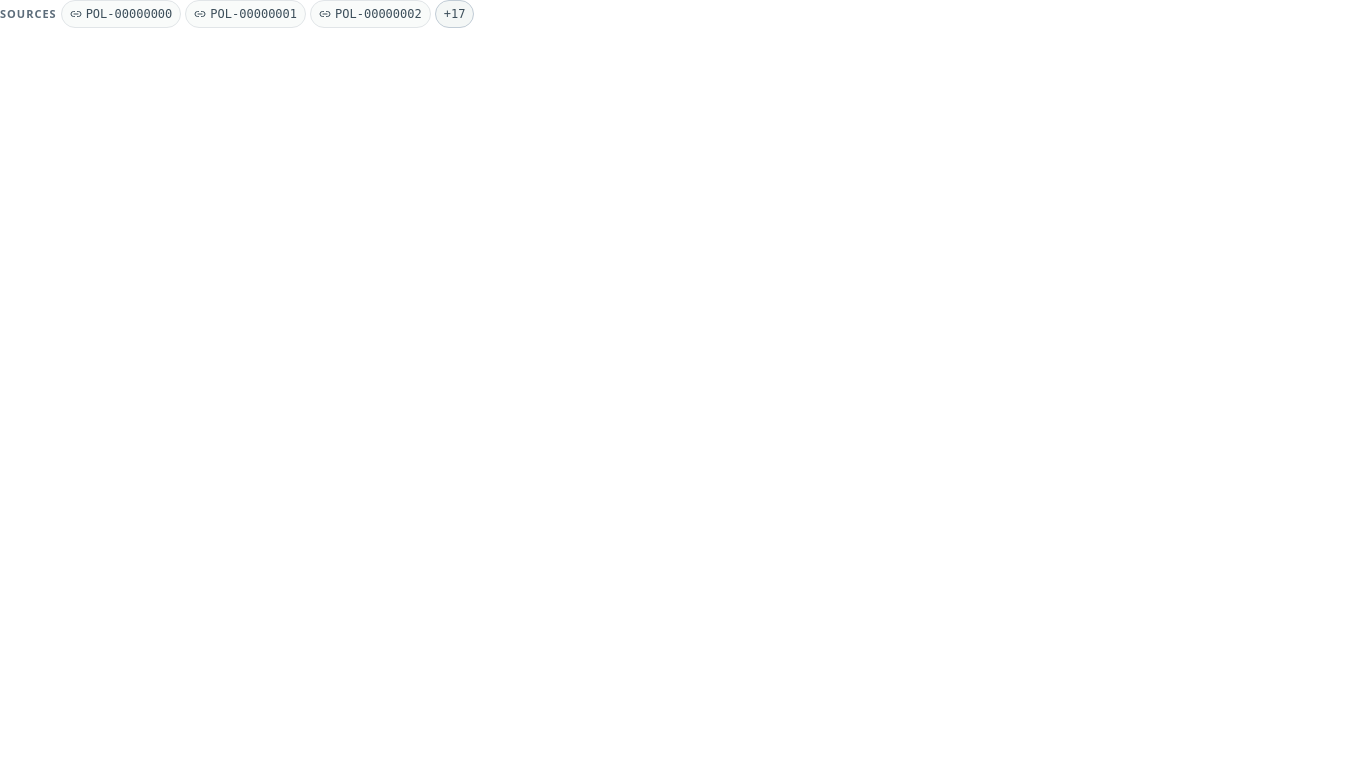
Test: CitationList › paginates rather than scrolling for two screens
Click the button with test id "citation-overflow" at (455, 14), box [435,0,474,28]
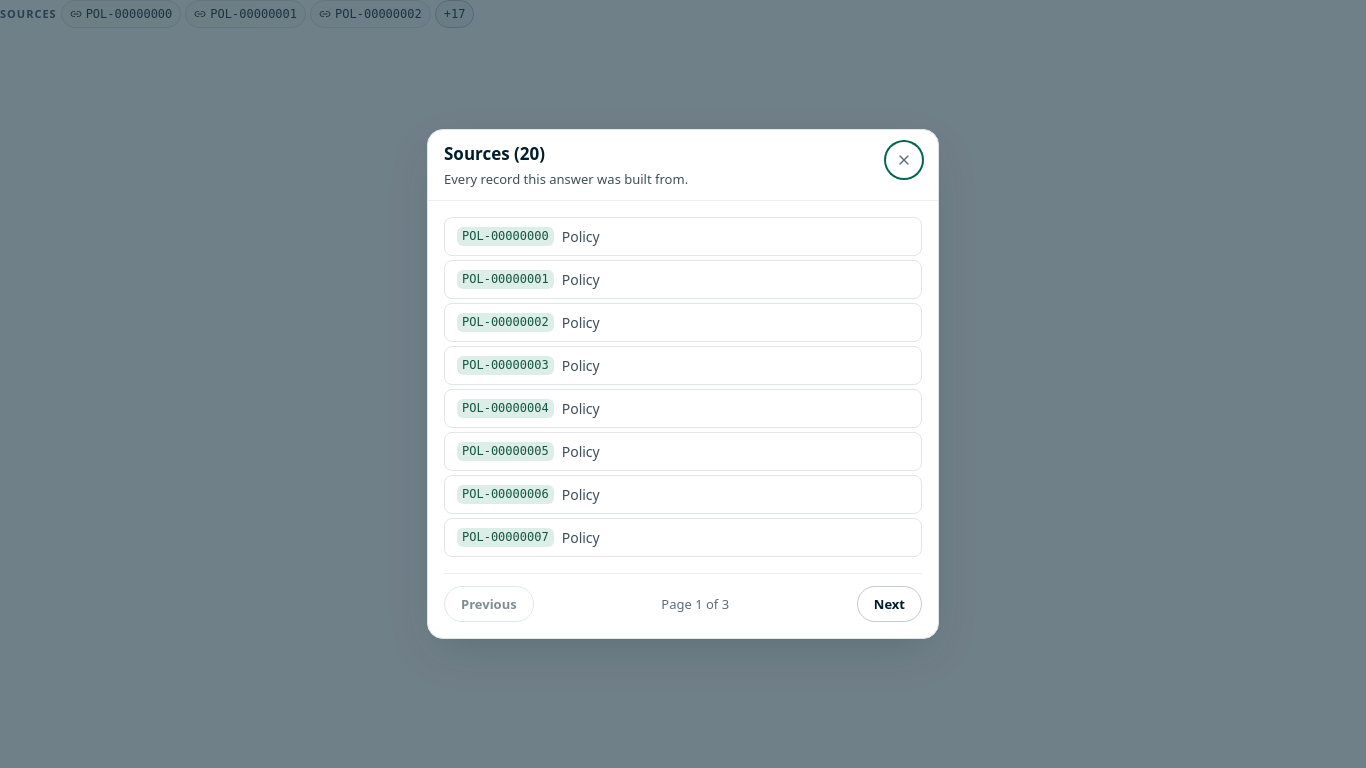
Expected: the number of list items with test id "citation-dialog-item" is 8
Expected: the text with test id "citation-page" reads "Page 1 of 3", [661,595,729,613]
Expected: the button with test id "citation-prev" is disabled, [444,586,534,622]
Click the button with test id "citation-next" at (889, 604), box [857,586,922,622]
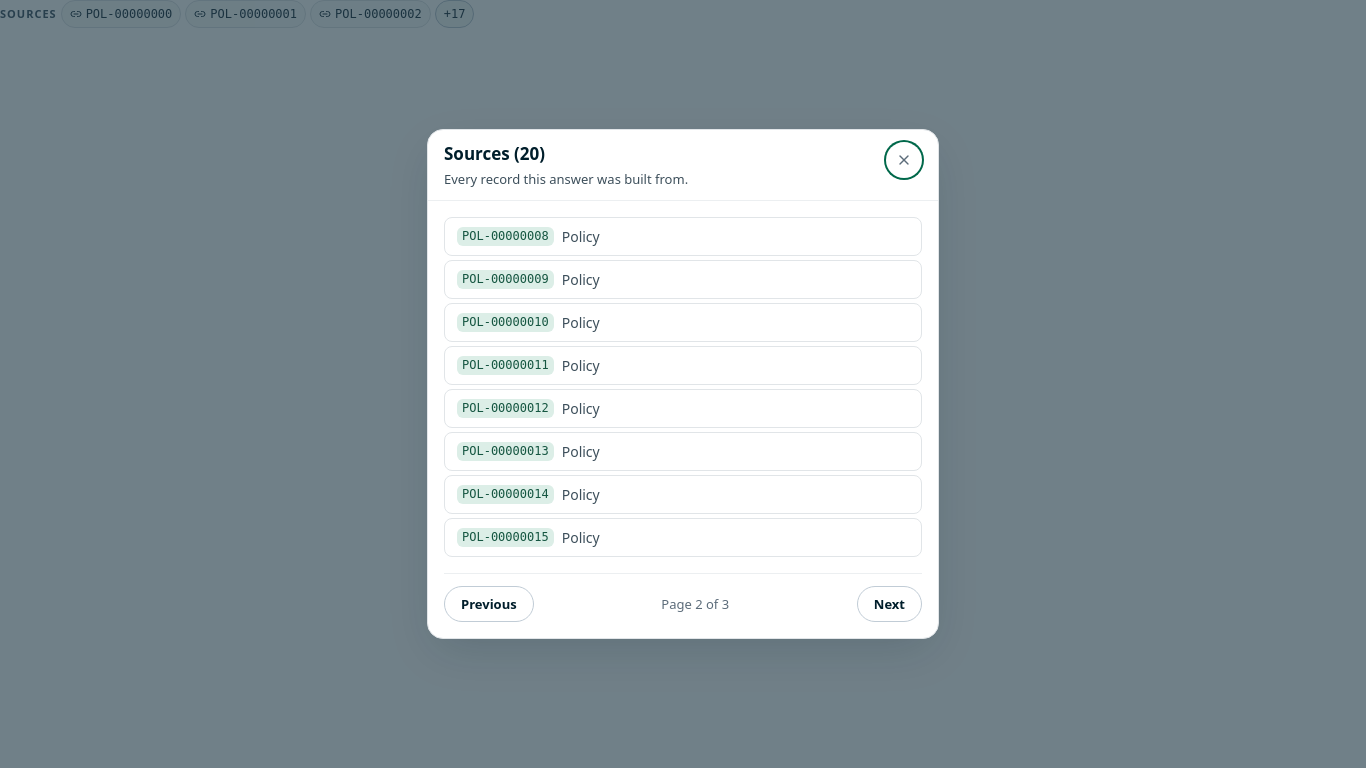
Expected: the text with test id "citation-page" reads "Page 2 of 3", [661,595,729,613]
Expected: the button with test id "citation-prev" is enabled, [444,586,534,622]
Click the button with test id "citation-next" at (889, 604), box [857,586,922,622]
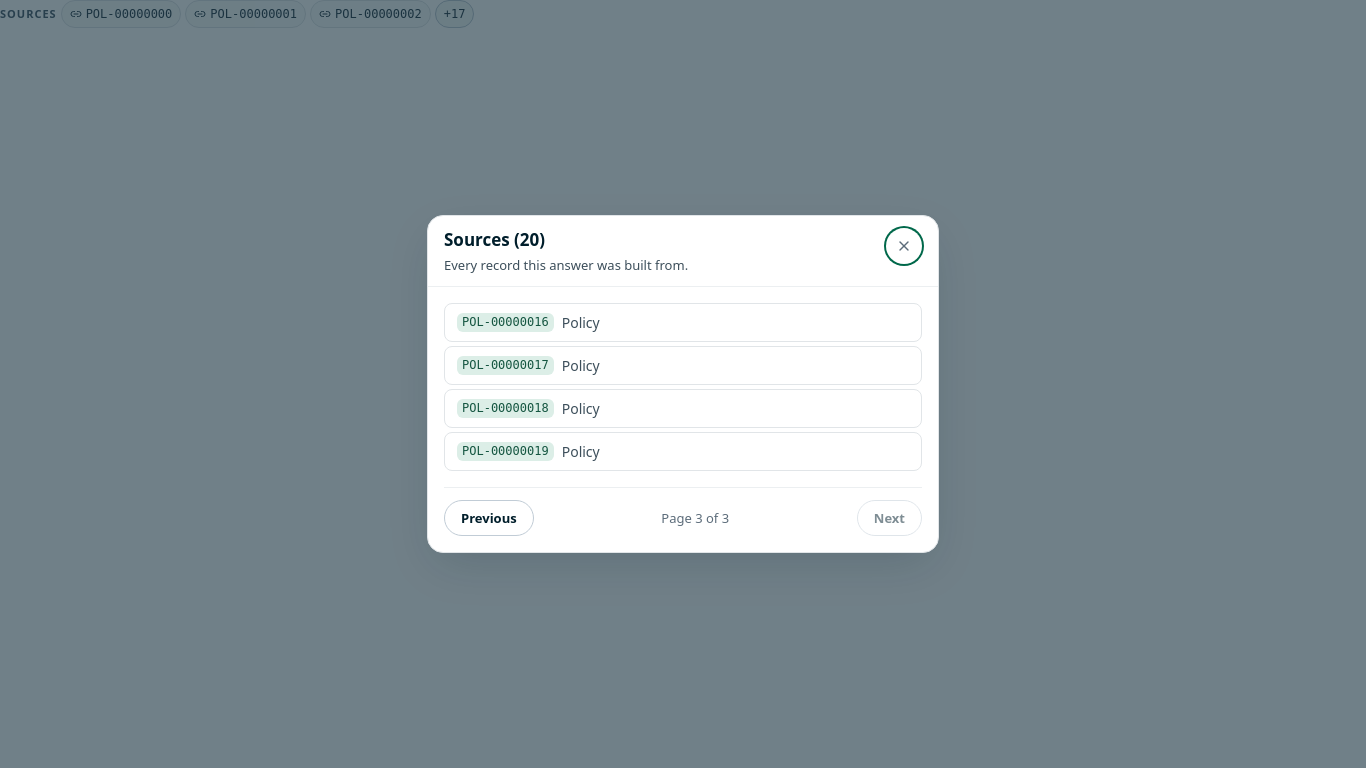
Expected: the text with test id "citation-page" reads "Page 3 of 3", [661,509,729,527]
Expected: the button with test id "citation-next" is disabled, [857,500,922,536]
Expected: the number of list items with test id "citation-dialog-item" is 4, [444,303,922,342]; [444,346,922,385]; [444,389,922,428]; [444,432,922,471]
